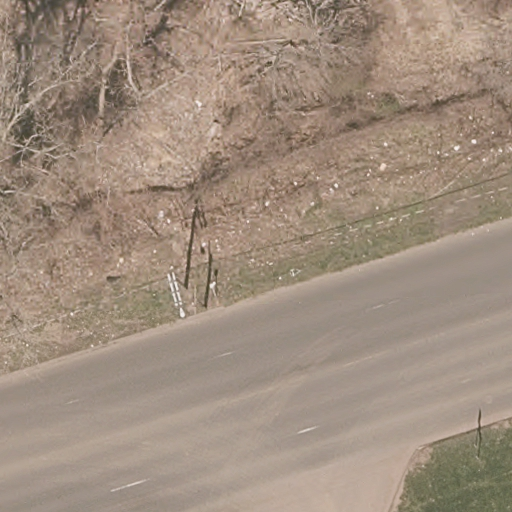DT: (164, 262, 188, 319)
